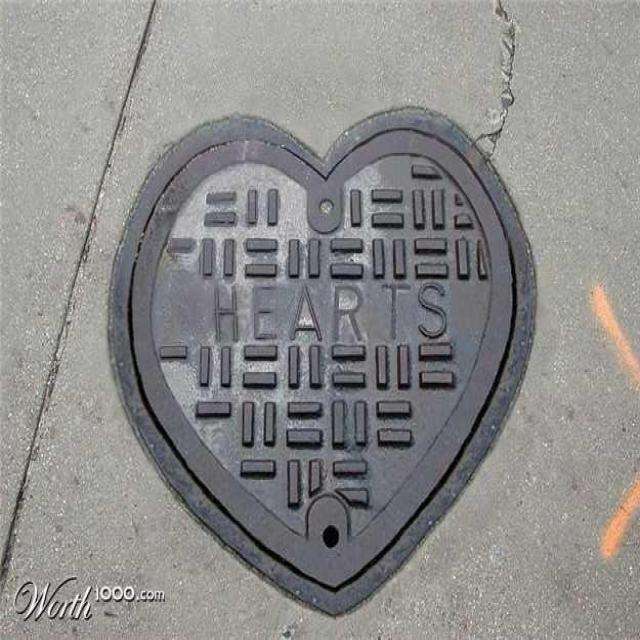manhole: (110, 110, 535, 613)
